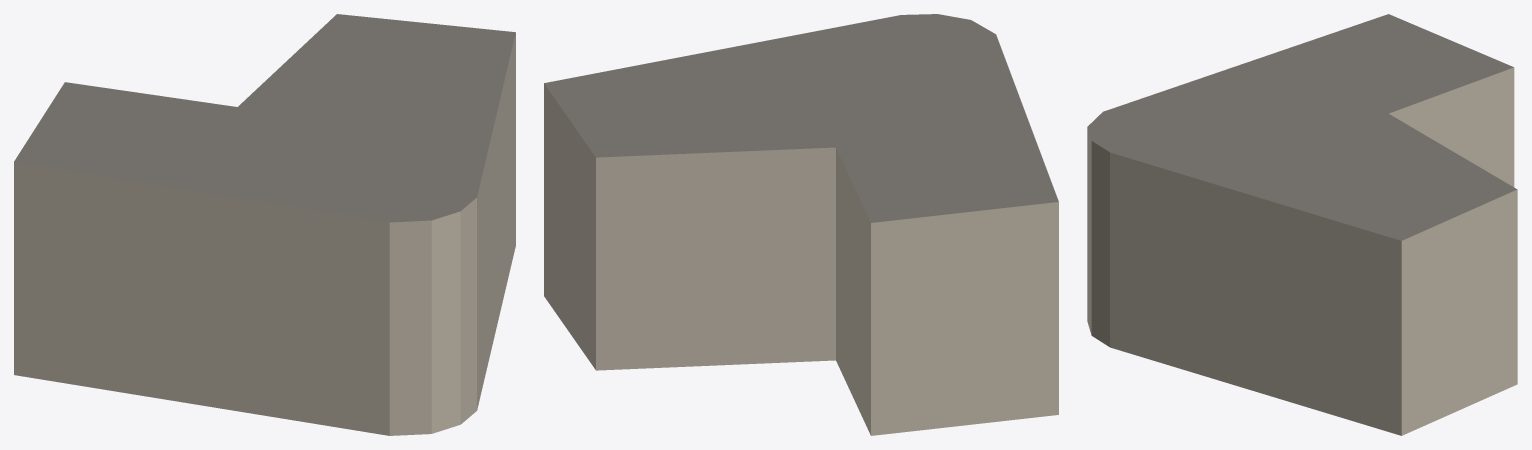
The picture shows the model from 3 angles, left to right: view 1: azimuth 30°, elevation 25°; view 2: azimuth 150°, elevation 25°; view 3: azimuth 270°, elevation 25°; orthographic projection. The views are drawn at different scales.
Visible parts, largest first — view 1: HP-w1287060493; view 2: HP-w1287060493; view 3: HP-w1287060493.
Boxes of the visible parts, x1,y1,x2,y2 form: HP-w1287060493: [14, 14, 515, 435]; HP-w1287060493: [544, 14, 1058, 435]; HP-w1287060493: [1087, 14, 1517, 435].
Bounding box in the file's own units: 44.92 × 18 × 35.97.
